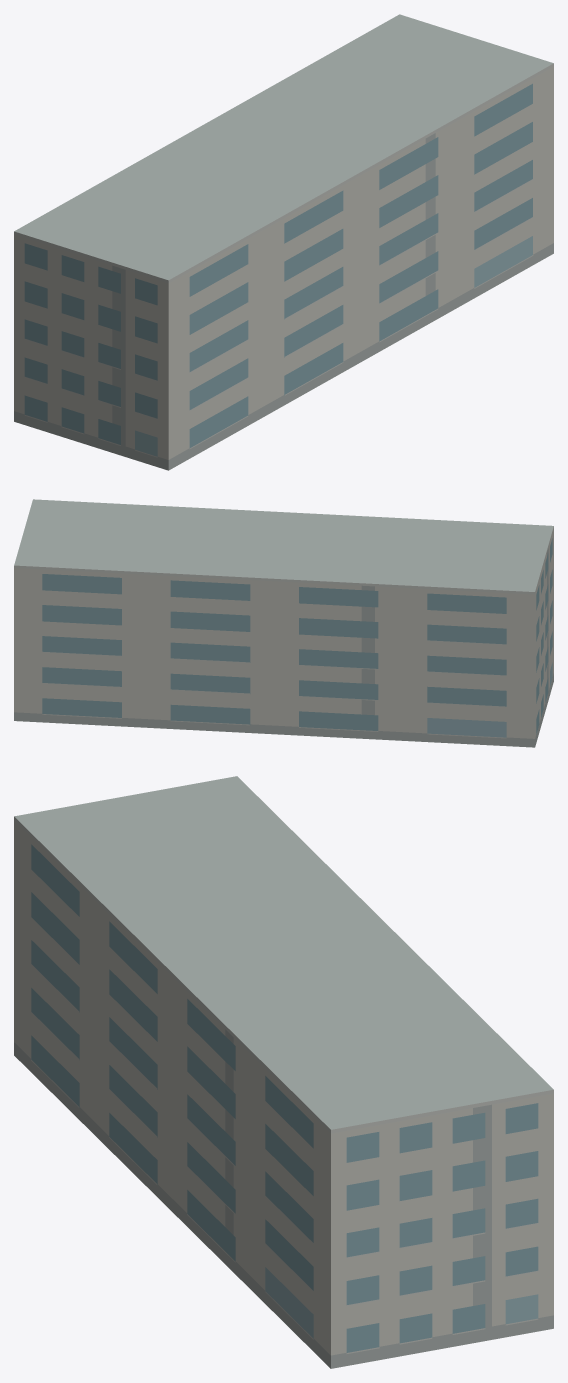
Rendered from residential-db9e6fcb-5295-4dad-8e6c-dbc89dfb1502.glb.
The picture shows the model from 3 angles, top to bottom: view 1: azimuth 30°, elevation 25°; view 2: azimuth 150°, elevation 25°; view 3: azimuth 270°, elevation 25°; orthographic projection. The views are drawn at different scales.
Parts seen in each view (by area): view 1: residential-db9e6fcb-5295-4dad-8e6c-dbc89dfb1502.tmp; view 2: residential-db9e6fcb-5295-4dad-8e6c-dbc89dfb1502.tmp; view 3: residential-db9e6fcb-5295-4dad-8e6c-dbc89dfb1502.tmp.
Boxes of the visible parts, x1,y1,x2,y2 form: residential-db9e6fcb-5295-4dad-8e6c-dbc89dfb1502.tmp: (14,14,553,470); residential-db9e6fcb-5295-4dad-8e6c-dbc89dfb1502.tmp: (14,499,553,747); residential-db9e6fcb-5295-4dad-8e6c-dbc89dfb1502.tmp: (14,776,553,1368).
Size of the model in its own units: 48.42 by 15.25 by 31.23.
